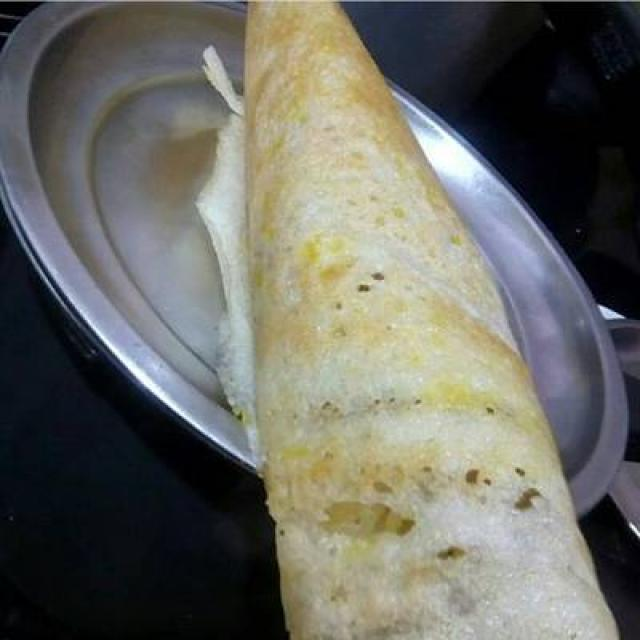dosa: (211, 0, 624, 637)
